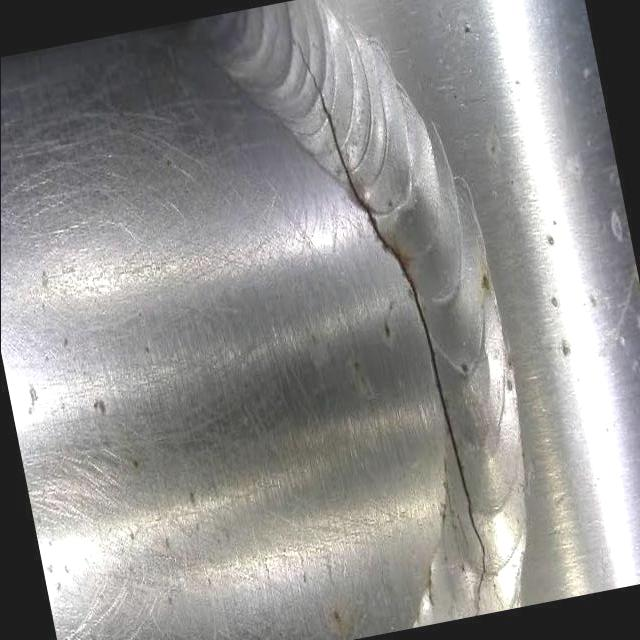defect: (287, 24, 488, 615)
